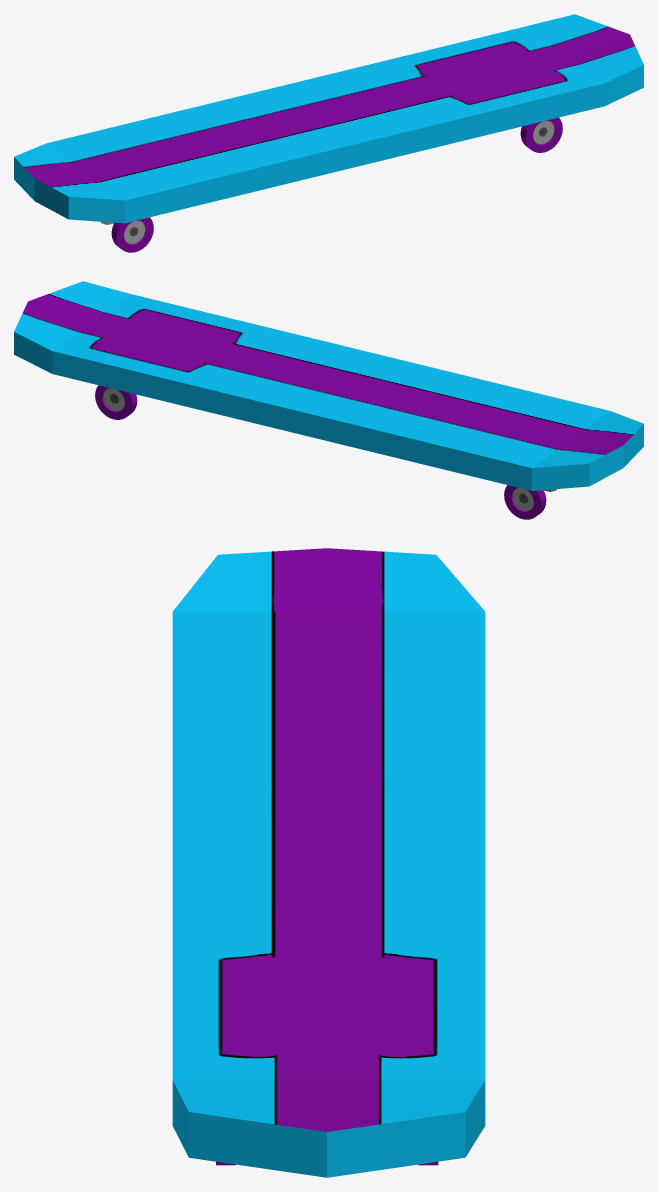
Rendered from Skate_Charlie.fbx.
The picture shows the model from 3 angles, top to bottom: view 1: azimuth 30°, elevation 25°; view 2: azimuth 150°, elevation 25°; view 3: azimuth 270°, elevation 25°; orthographic projection. The views are drawn at different scales.
Visible parts, largest first — view 1: skate, Rueda 1, Rueda 3; view 2: skate, Rueda 2, Rueda 4; view 3: skate.
Part boxes in pixels (x1,y1,x2,y2): skate: [14, 14, 643, 223]; Rueda 1: [111, 217, 153, 252]; Rueda 3: [520, 117, 562, 152]; skate: [14, 281, 643, 490]; Rueda 2: [504, 485, 546, 519]; Rueda 4: [95, 385, 137, 419]; skate: [172, 548, 485, 1177].
Bounding box in the file's own units: 248 × 28.46 × 56.46.
